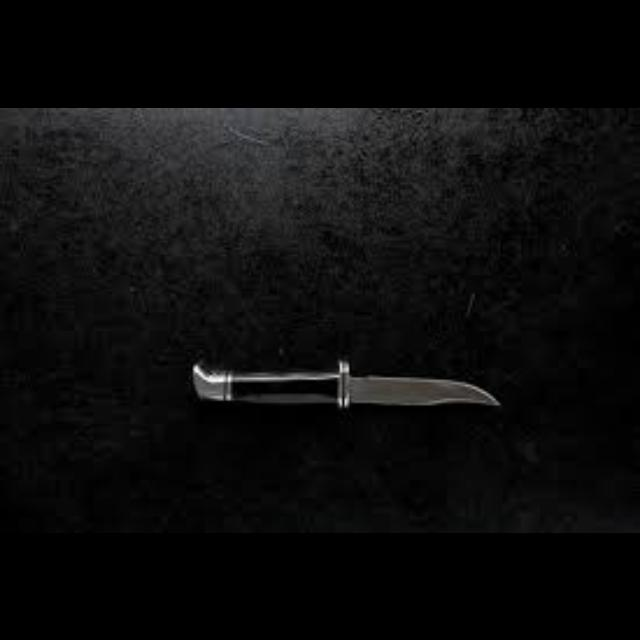Knife: (192, 357, 500, 408)
